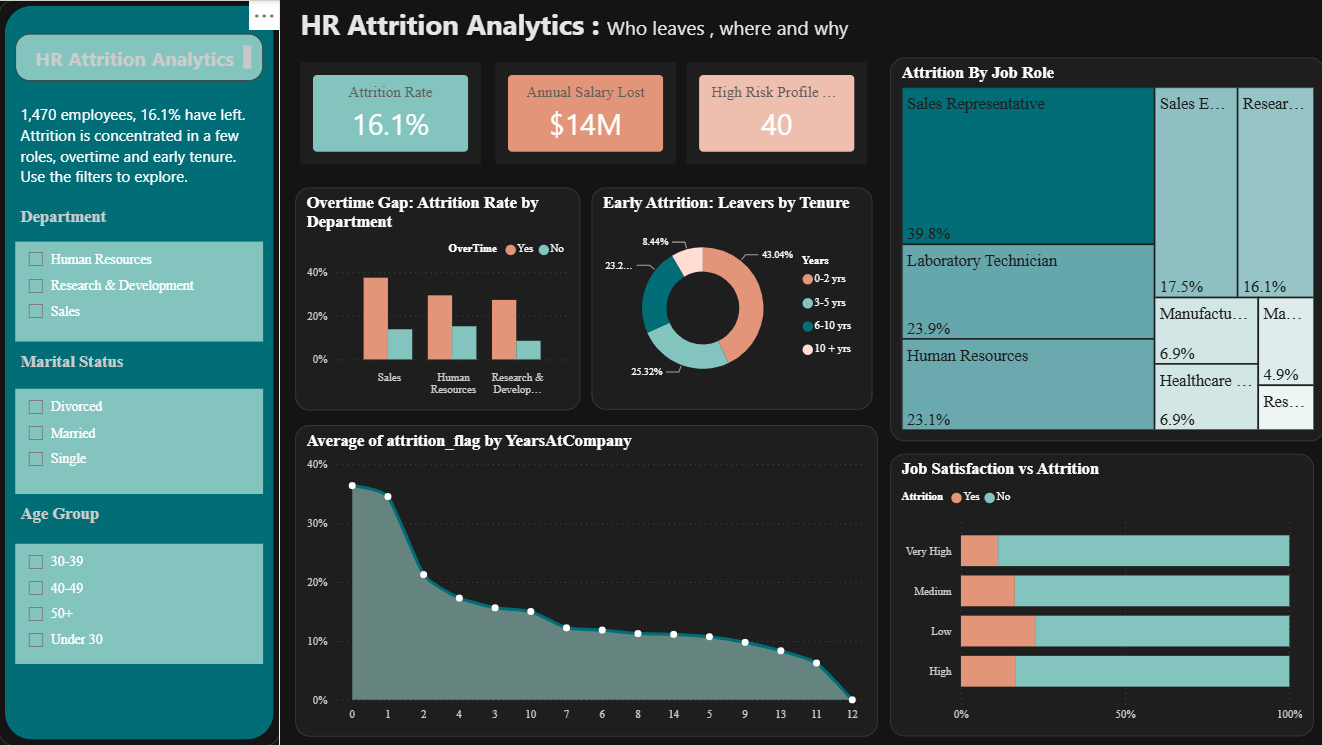

This screenshot's page, from the dashboard's own definition file:
{"tool":"powerbi","page":{"name":"Page 1","canvas":[1280,720],"ordinal":0},"visuals":[{"type":"shape","box":[0,0,271.4,720.2],"z":0},{"type":"textbox","box":[15.7,32.6,238.9,45.8],"z":1000},{"type":"textbox","box":[285.9,0,676.8,65.1],"z":2000},{"type":"textbox","box":[15.7,95.3,238.9,127.9],"z":3000},{"type":"cardVisual","fields":{"Data":["Avg(hr_project vw_hr_clean.attrition_flag)"]},"box":[285.9,55.5,184.6,108.6],"z":4000},{"type":"cardVisual","fields":{"Data":["Sum(hr_project vw_hr_clean.leaver_annual_salary)"]},"box":[474.1,55.5,184.6,108.6],"z":5000},{"type":"cardVisual","fields":{"Data":["Sum(hr_project vw_hr_clean.high_risk_profile)"]},"box":[658.7,55.5,184.6,108.6],"z":6000},{"type":"clusteredColumnChart","title":"Overtime Gap: Attrition Rate by Department","fields":{"Category":["hr_project vw_hr_clean.Department"],"Series":["hr_project vw_hr_clean.OverTime"],"Y":["Avg(hr_project vw_hr_clean.attrition_flag)"]},"box":[285.9,181,275,215],"z":7000},{"type":"donutChart","title":"Early Attrition: Leavers by Tenure","fields":{"Category":["hr_project vw_hr_clean.new_tenure_band"],"Y":["Sum(hr_project vw_hr_clean.attrition_flag)"]},"box":[571.9,181,271.4,214.7],"z":8000},{"type":"areaChart","fields":{"Category":["hr_project vw_hr_clean.YearsAtCompany"],"Y":["Avg(hr_project vw_hr_clean.attrition_flag)"]},"box":[285.9,410.2,562.2,300.4],"z":9000},{"type":"treemap","title":"Attrition By Job Role","fields":{"Group":["hr_project vw_hr_clean.JobRole"],"Values":["Avg(hr_project vw_hr_clean.attrition_flag)"]},"box":[860.2,55.5,419.8,370.4],"z":10000},{"type":"hundredPercentStackedBarChart","title":"Job Satisfaction vs Attrition","fields":{"Category":["hr_project vw_hr_clean.job_satisfaction"],"Y":["Count(hr_project vw_hr_clean.employee_id)"],"Series":["hr_project vw_hr_clean.attrition"]},"box":[860.2,437.9,409,272.7],"z":11000},{"type":"slicer","fields":{"Values":["hr_project vw_hr_clean.Department"]},"box":[15.7,232.8,238.9,96.5],"z":12000},{"type":"textbox","box":[15.7,195.4,238.9,37.4],"z":13000},{"type":"textbox","box":[15.7,335.4,238.9,39.8],"z":14000},{"type":"slicer","fields":{"Values":["hr_project vw_hr_clean.MaritalStatus"]},"box":[15.7,375.2,238.9,101.3],"z":15000},{"type":"textbox","box":[15.7,481.4,238.9,43.4],"z":16000},{"type":"slicer","fields":{"Values":["hr_project vw_hr_clean.age_group"]},"box":[15.7,524.8,238.9,115.8],"z":17000}]}

Visuals, with their boxes on the page's 1280x720 design canvas (x1, y1, x2, y2). These are canvas units, not pixel positions in the 1322x745 screenshot, which may show the page scaled, cropped or inside an application window:
shape: [x1=0, y1=0, x2=271, y2=720]
textbox: [x1=16, y1=33, x2=255, y2=78]
textbox: [x1=286, y1=0, x2=963, y2=65]
textbox: [x1=16, y1=95, x2=255, y2=223]
cardVisual - Avg(hr_project vw_hr_clean.attrition_flag): [x1=286, y1=56, x2=470, y2=164]
cardVisual - Sum(hr_project vw_hr_clean.leaver_annual_salary): [x1=474, y1=56, x2=659, y2=164]
cardVisual - Sum(hr_project vw_hr_clean.high_risk_profile): [x1=659, y1=56, x2=843, y2=164]
"Overtime Gap: Attrition Rate by Department" clusteredColumnChart: [x1=286, y1=181, x2=561, y2=396]
"Early Attrition: Leavers by Tenure" donutChart: [x1=572, y1=181, x2=843, y2=396]
areaChart - hr_project vw_hr_clean.YearsAtCompany x Avg(hr_project vw_hr_clean.attrition_flag): [x1=286, y1=410, x2=848, y2=711]
"Attrition By Job Role" treemap: [x1=860, y1=56, x2=1280, y2=426]
"Job Satisfaction vs Attrition" hundredPercentStackedBarChart: [x1=860, y1=438, x2=1269, y2=711]
slicer - hr_project vw_hr_clean.Department: [x1=16, y1=233, x2=255, y2=329]
textbox: [x1=16, y1=195, x2=255, y2=233]
textbox: [x1=16, y1=335, x2=255, y2=375]
slicer - hr_project vw_hr_clean.MaritalStatus: [x1=16, y1=375, x2=255, y2=476]
textbox: [x1=16, y1=481, x2=255, y2=525]
slicer - hr_project vw_hr_clean.age_group: [x1=16, y1=525, x2=255, y2=641]
